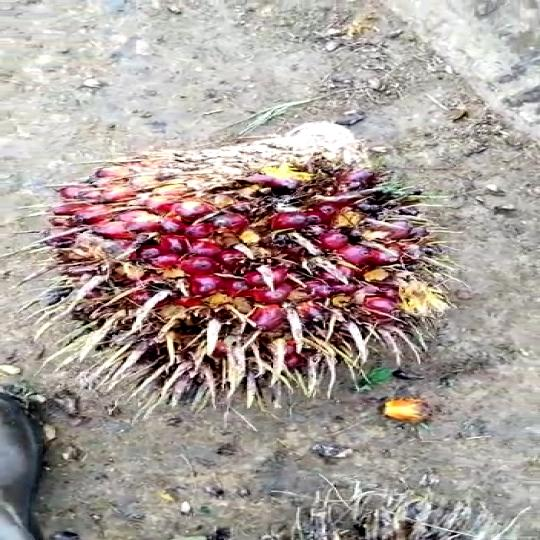masak: (49, 134, 449, 402)
